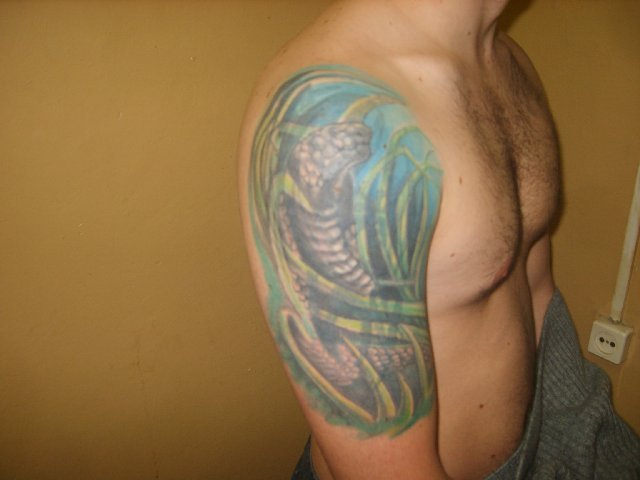tatu7_zmeya: (232, 58, 454, 451)
